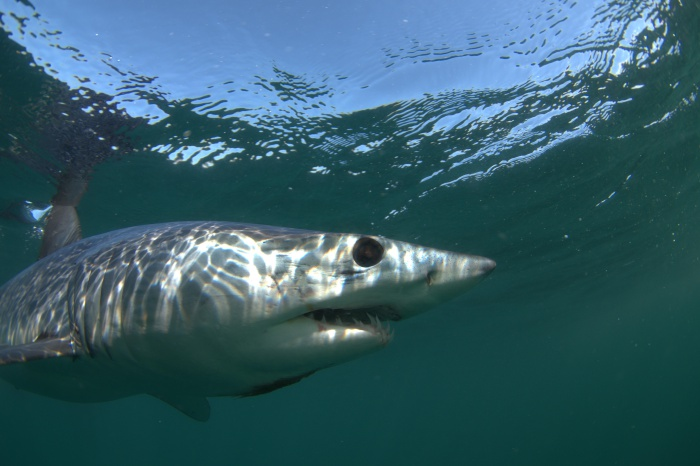Mako: (1, 179, 519, 426)
